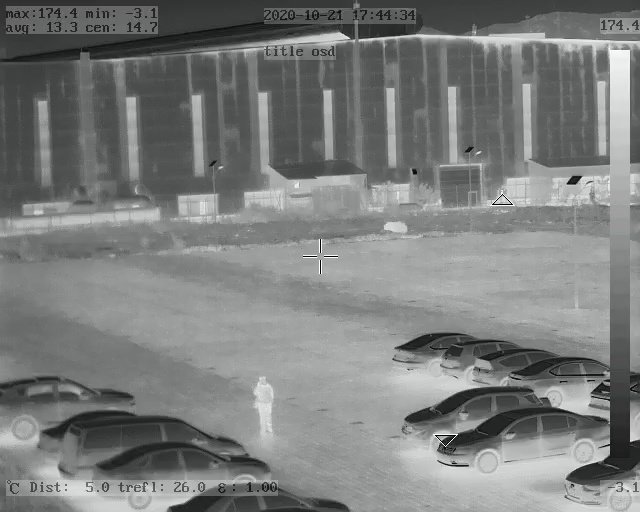person: (251, 376, 276, 435)
vehicle: (92, 446, 276, 504), (441, 409, 610, 471), (54, 414, 255, 466), (1, 374, 132, 437), (401, 385, 531, 440), (565, 443, 638, 511), (509, 355, 608, 404), (391, 328, 451, 371), (467, 347, 517, 386), (440, 341, 478, 380)
